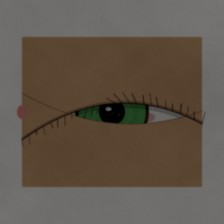hemorrhage_spot: (62, 67, 163, 147)
